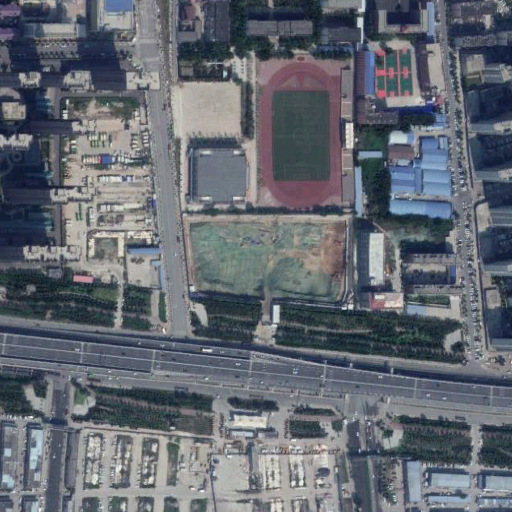cw: (189, 221, 349, 303)
